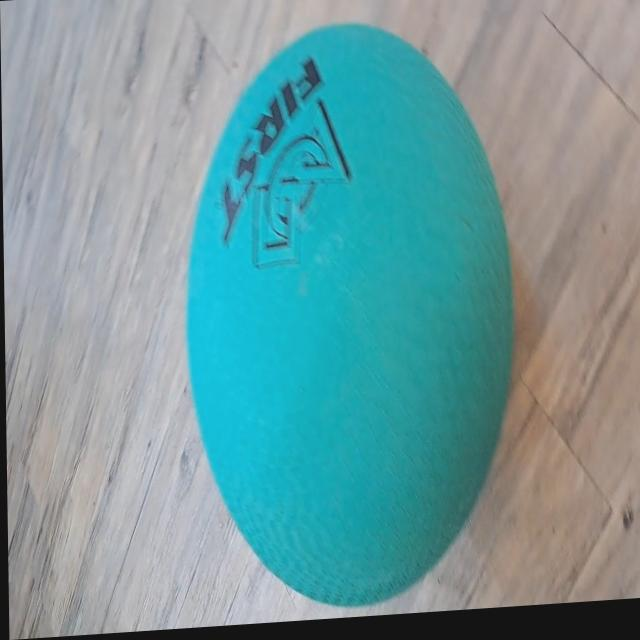ALGAE: (179, 9, 519, 621)
